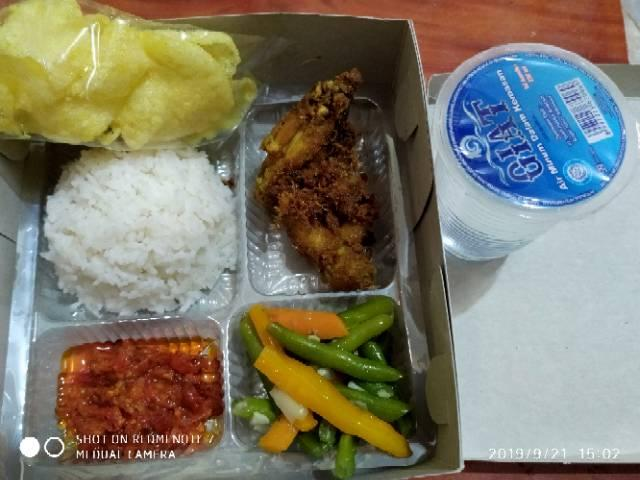buah_sayur_vitA: (244, 325, 391, 437), (67, 357, 189, 416)
daging: (279, 130, 361, 244)
makanan_berpati: (74, 167, 221, 275), (29, 36, 215, 114)
